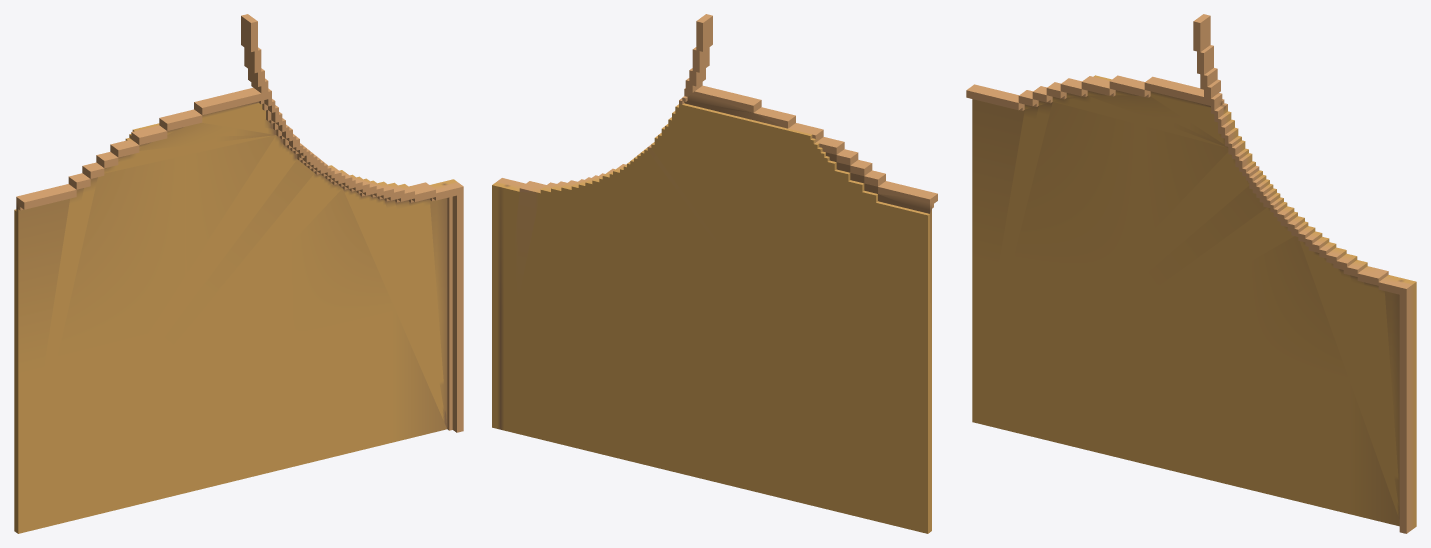
Rendered from Top Board Right.fbx.
The picture shows the model from 3 angles, left to right: view 1: azimuth 30°, elevation 25°; view 2: azimuth 150°, elevation 25°; view 3: azimuth 330°, elevation 25°; orthographic projection.
Visible parts, largest first — view 1: Top_Board_Right.Merged; view 2: Top_Board_Right.Merged; view 3: Top_Board_Right.Merged.
Part boxes in pixels (x1,y1,x2,y2): Top_Board_Right.Merged: (14,14,463,533); Top_Board_Right.Merged: (492,14,937,533); Top_Board_Right.Merged: (966,14,1416,533).
Size of the model in its own units: 25200 by 25200 by 1000.
